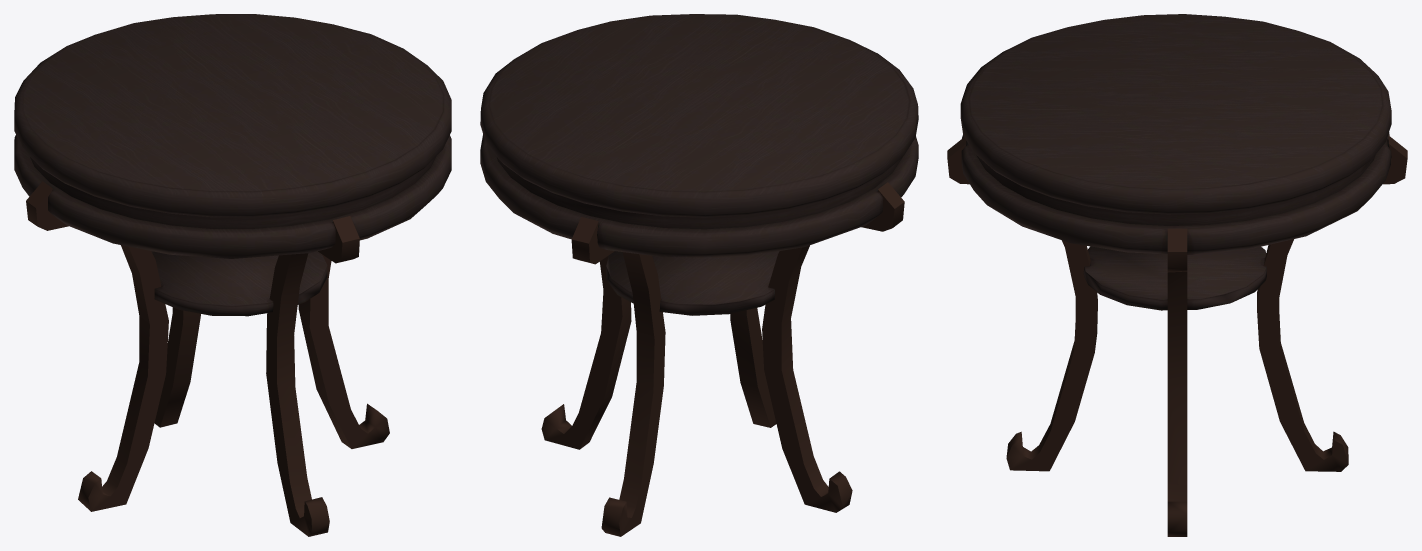
The model's file is tavolinolampada_low.fbx.
3 renders of one model, left to right at view 1: azimuth 30°, elevation 25°; view 2: azimuth 150°, elevation 25°; view 3: azimuth 270°, elevation 25°, orthographic.
Visible parts, largest first — view 1: Wooden table; view 2: Wooden table; view 3: Wooden table.
Part boxes in pixels (x1,y1,x2,y2): Wooden table: [14, 14, 451, 536]; Wooden table: [480, 14, 918, 536]; Wooden table: [947, 14, 1407, 536].
Bounding box in the file's own units: 110 × 96.66 × 110.
